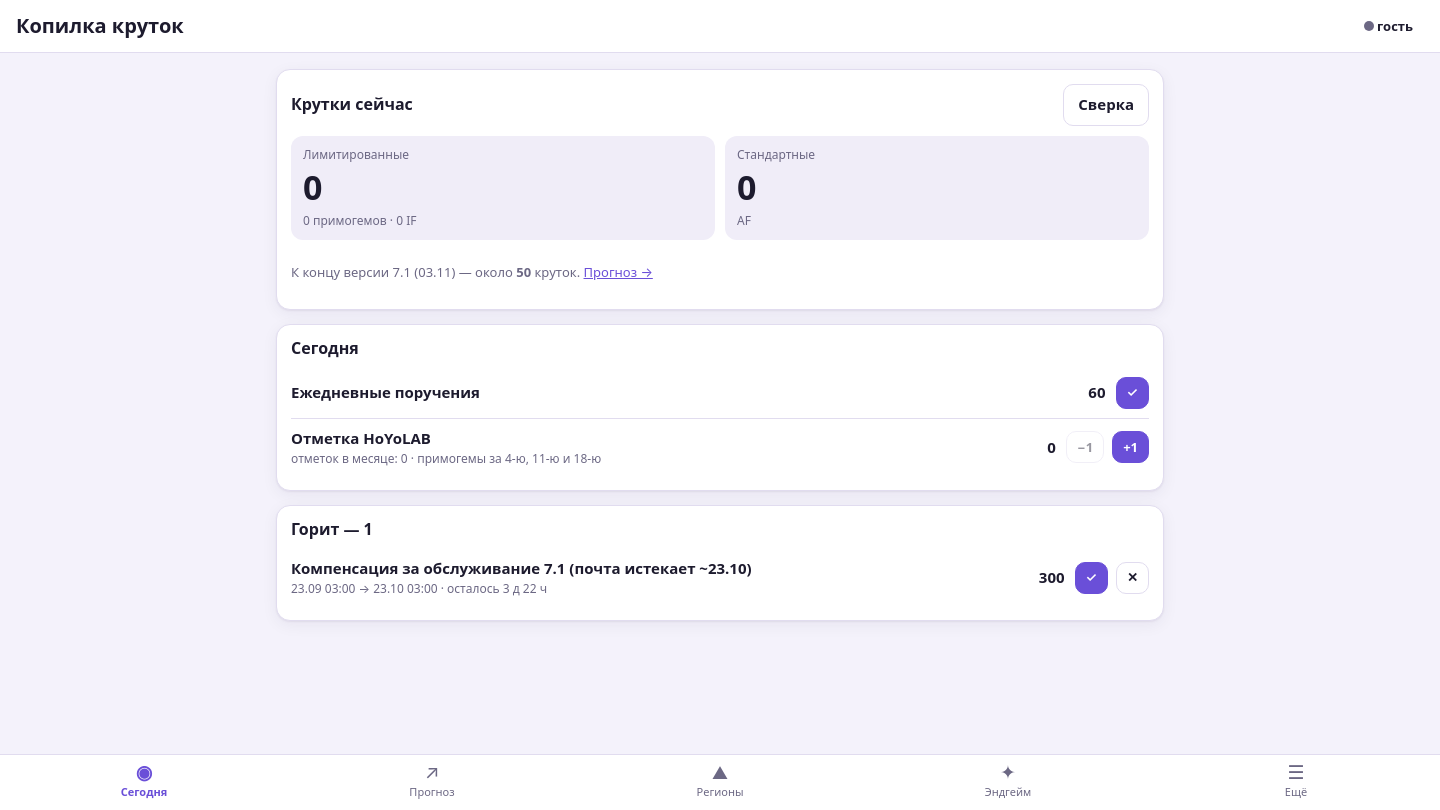
Scenario: приложение без аккаунта (M2) › сверка через интерфейс: 5000 / 300 / 12 / 20 → 45 лимитированных и 20 стандартных (TC-08)
Click the button "Сверка" at (1106, 105), box [1063,84,1149,126]
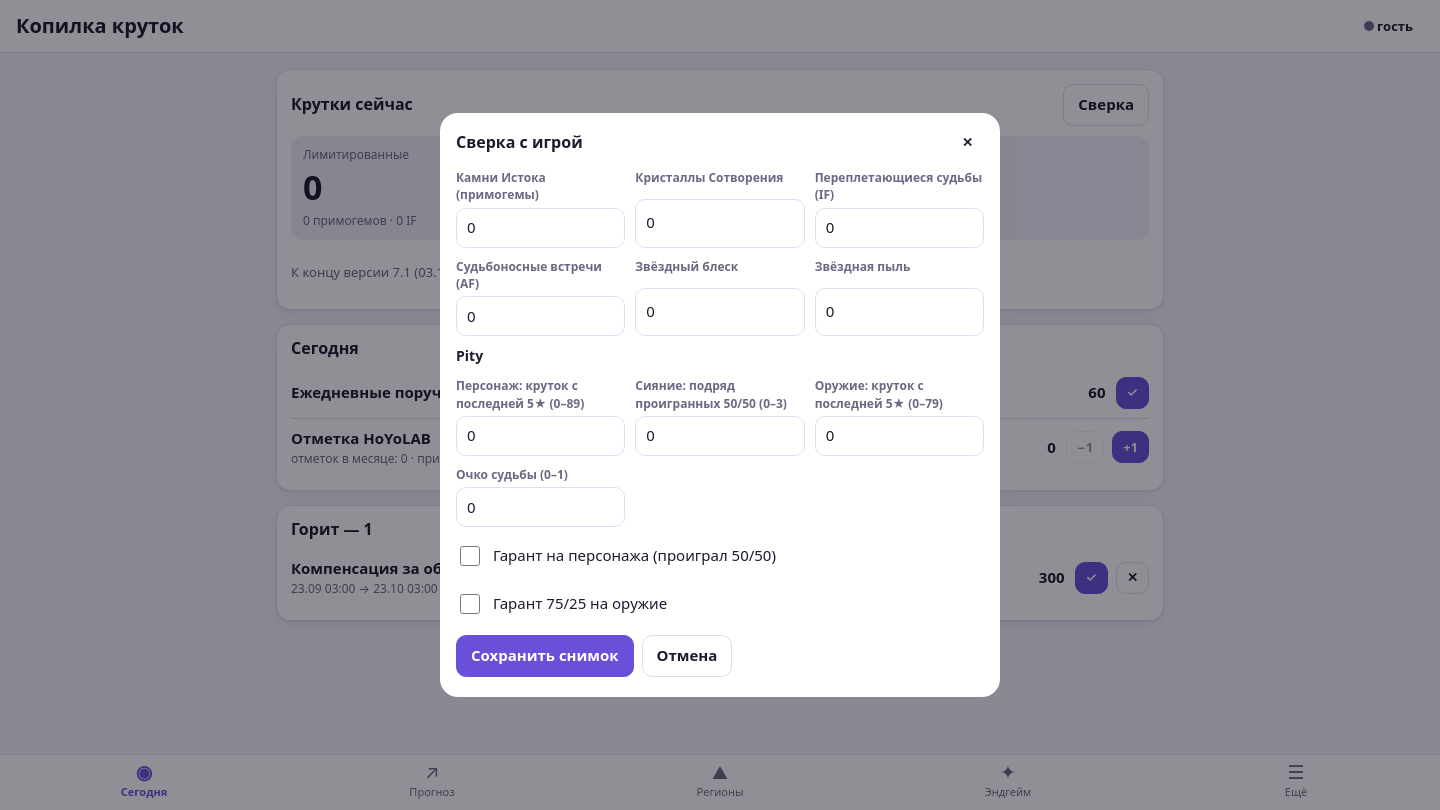
Replace the text in the number field labelled "Камни Истока (примогемы)" with "5000" at (541, 228), box [456,208,625,248]
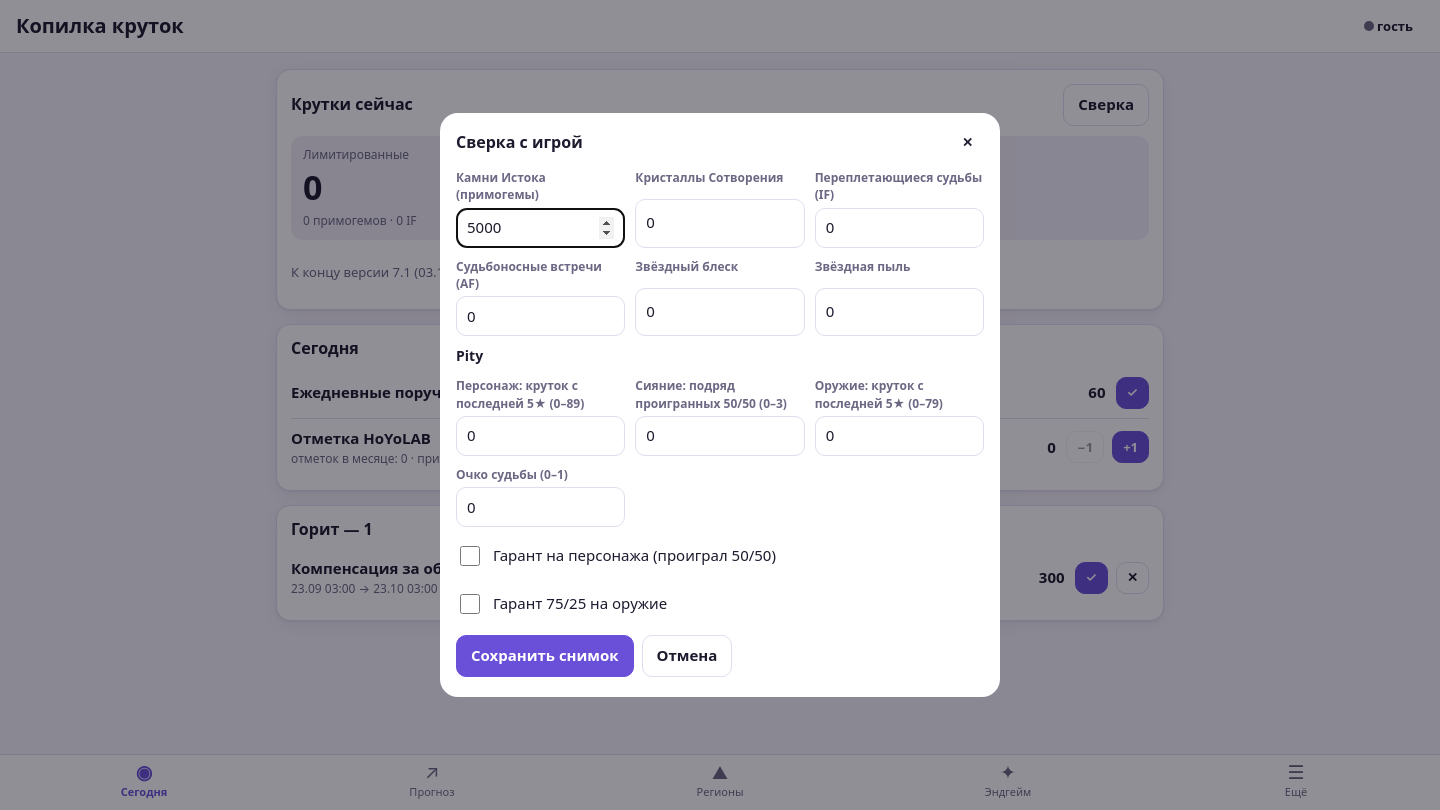
Replace the text in the number field labelled "Кристаллы Сотворения" with "300" at (720, 223), box [635,199,805,248]
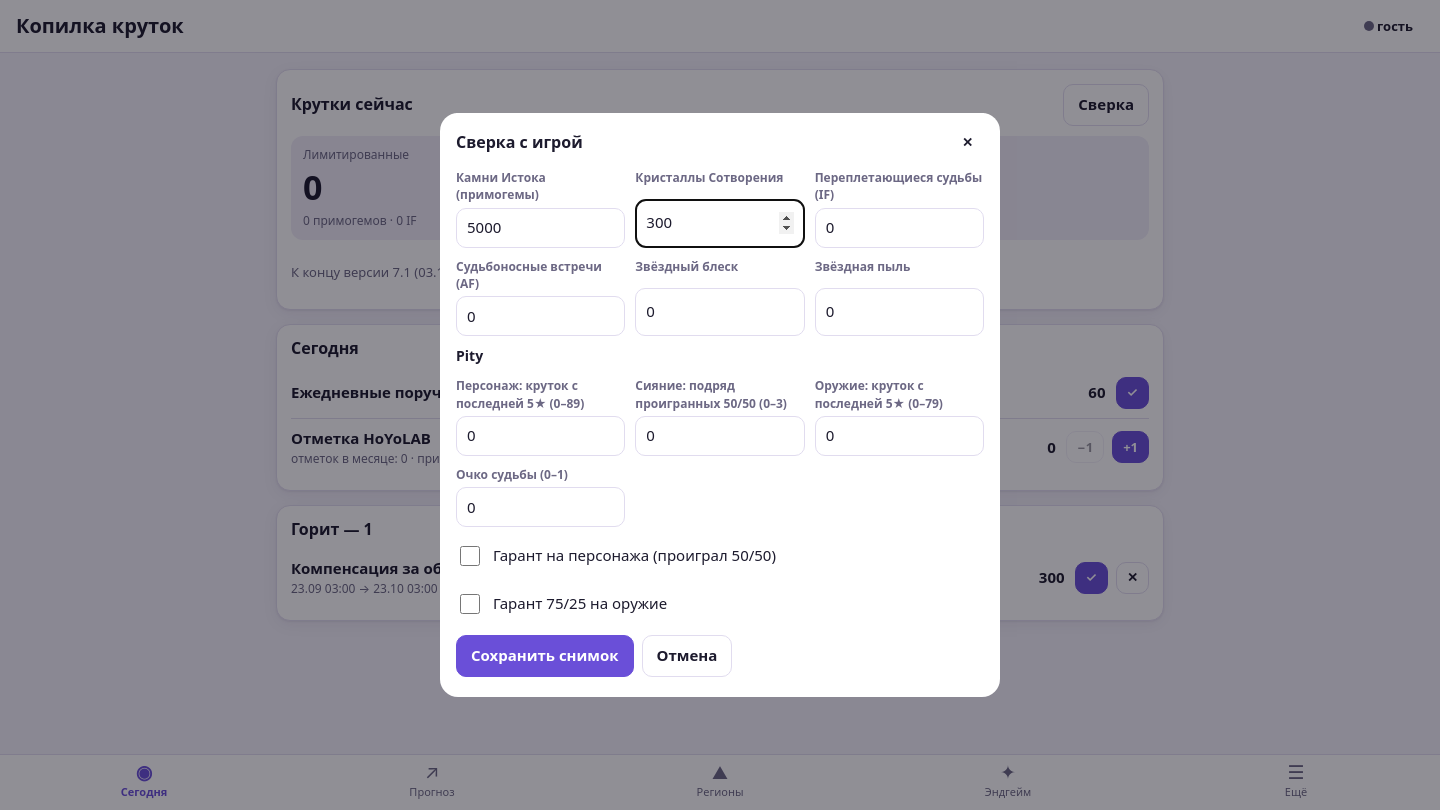
Replace the text in the number field labelled "Переплетающиеся судьбы (IF)" with "12" at (899, 228), box [815,208,984,248]
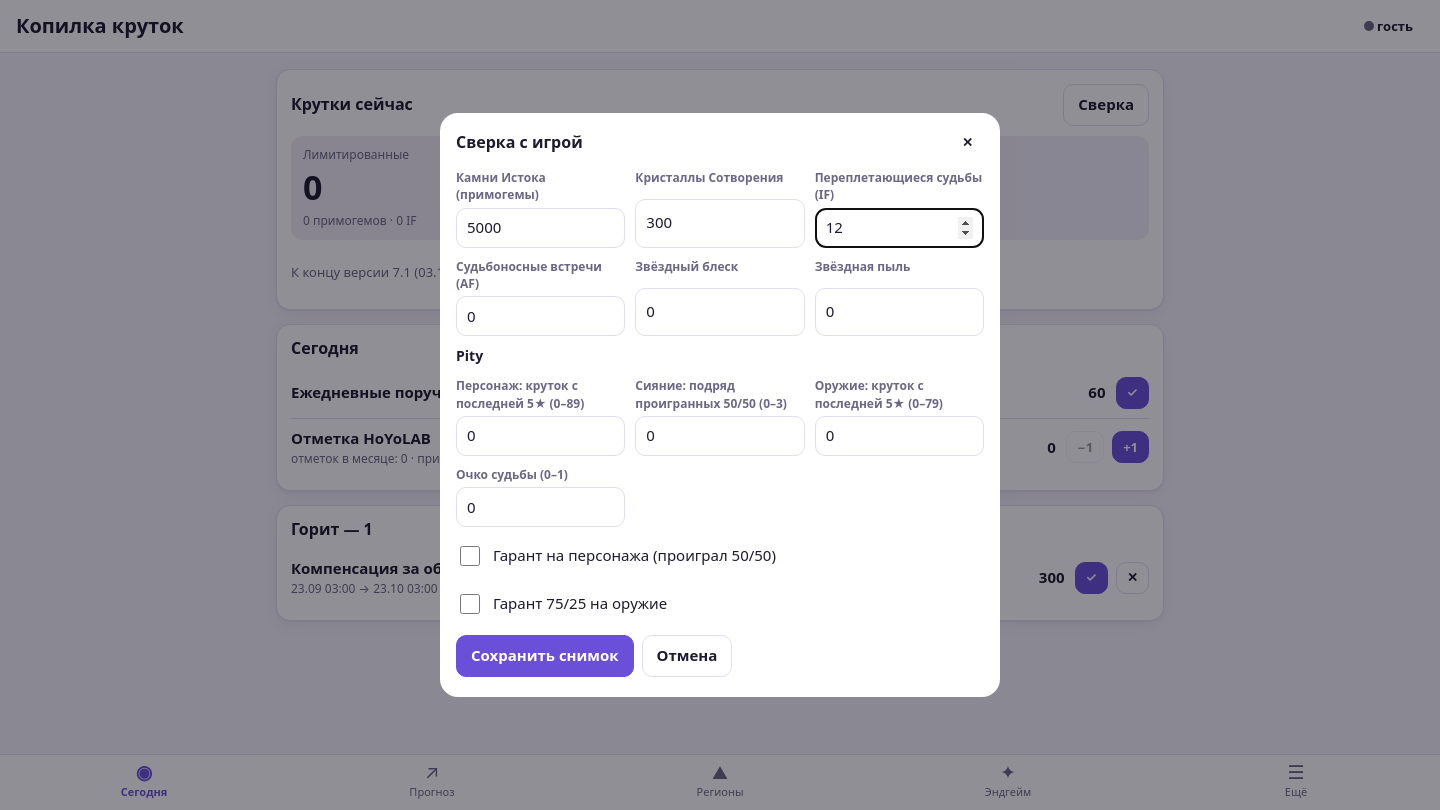
Replace the text in the number field labelled "Судьбоносные встречи (AF)" with "20" at (541, 316), box [456,296,625,336]
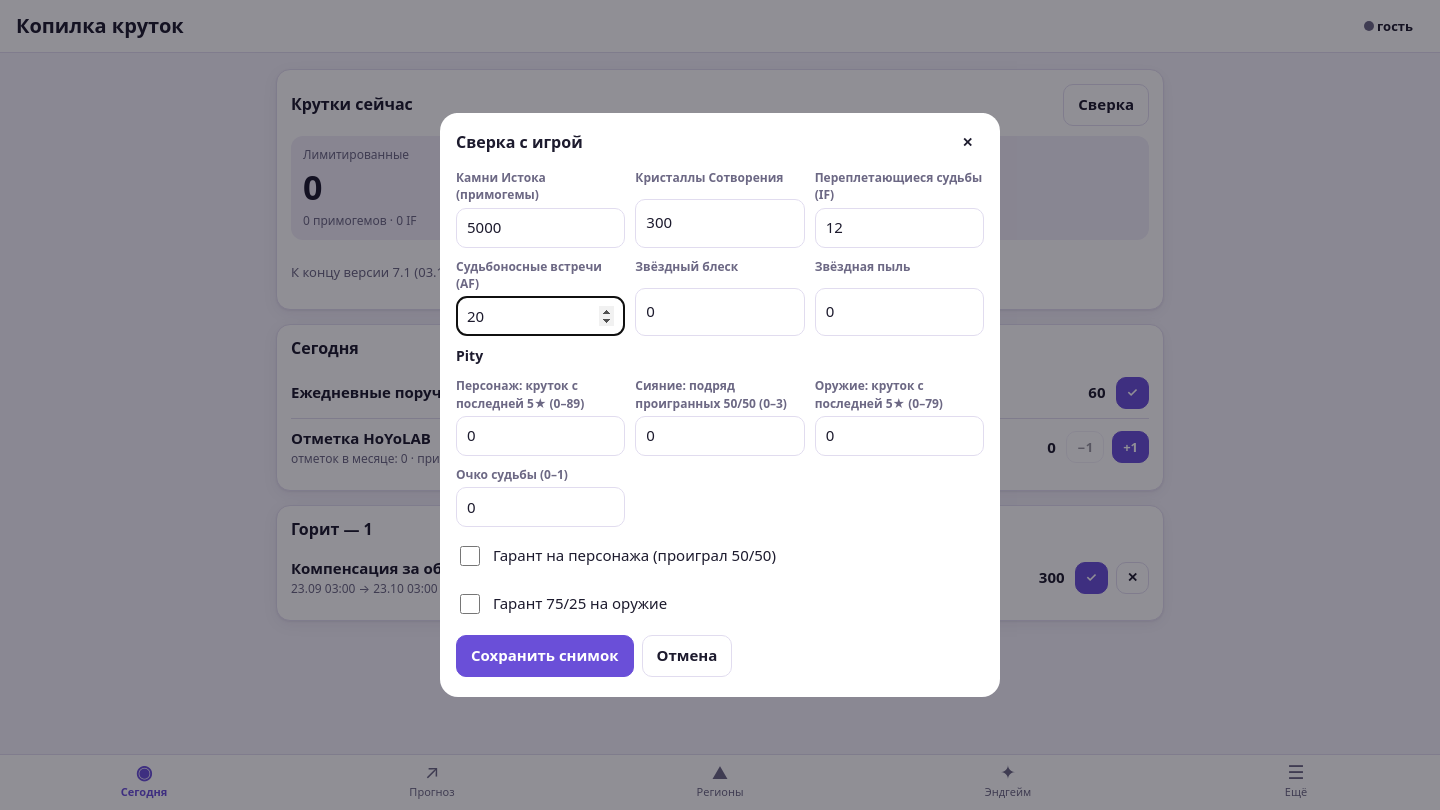
Click the button "Сохранить снимок" at (545, 656), box [456,635,634,677]
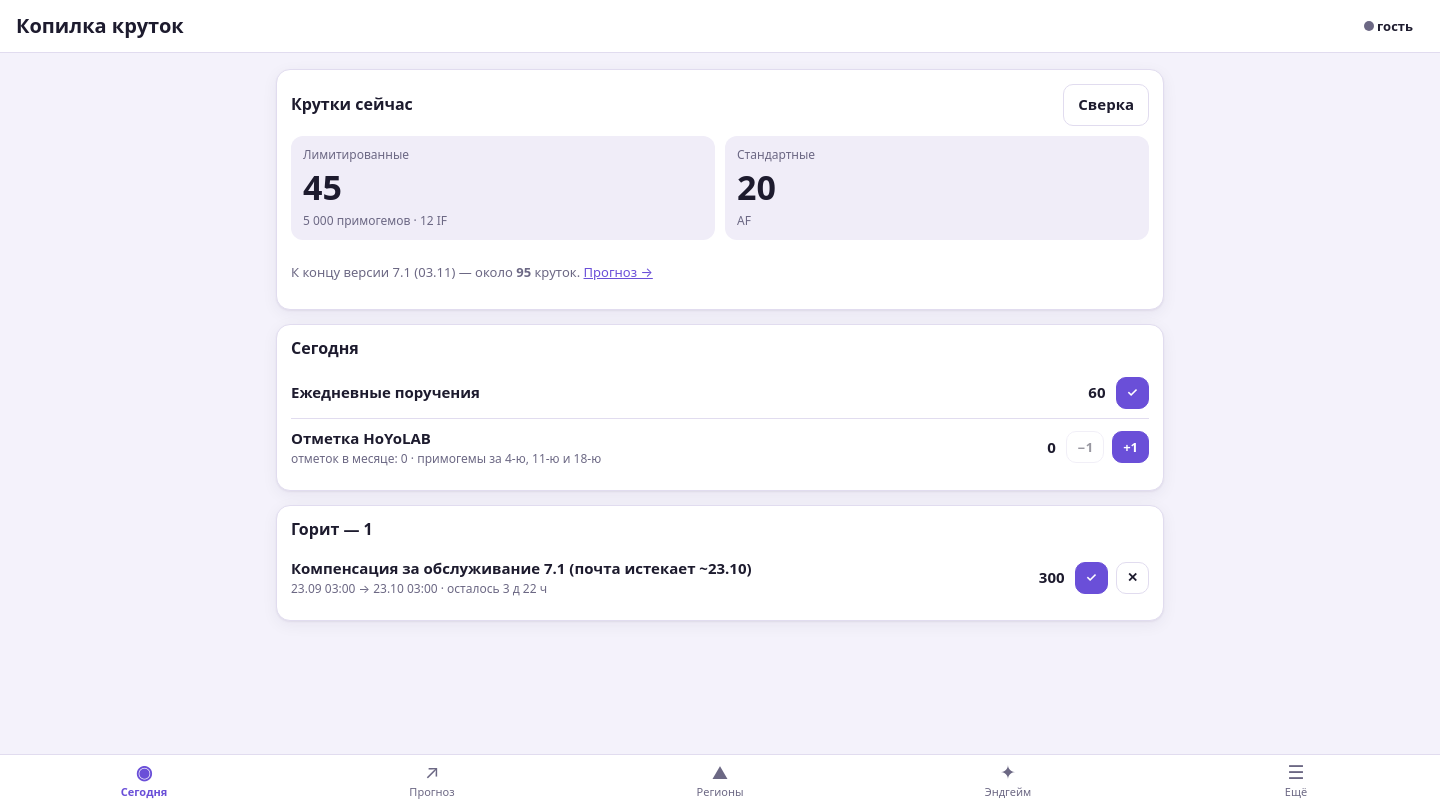
Check: the text with test id "limited-pulls" reads "45", box [303,164,342,210]
Check: the text with test id "standard-pulls" reads "20", box [737,164,776,210]
